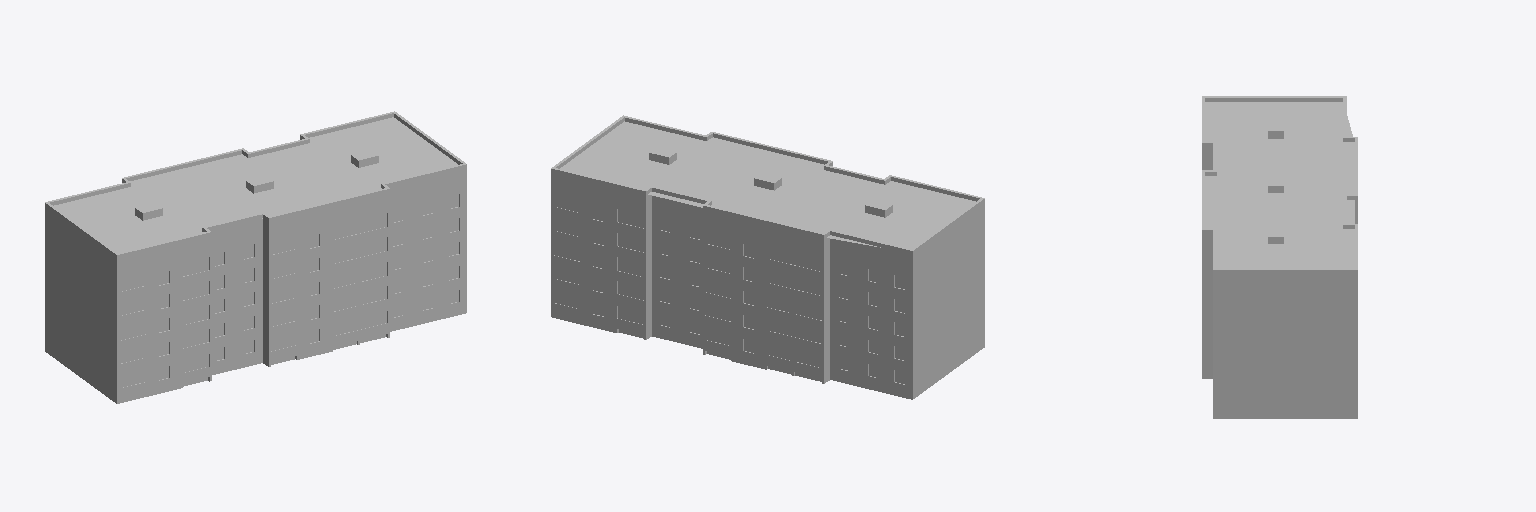
Rendered from Regular.obj.
3 renders of one model, left to right at view 1: azimuth 30°, elevation 25°; view 2: azimuth 150°, elevation 25°; view 3: azimuth 270°, elevation 25°, orthographic.
Visible parts, largest first — view 1: page.012; view 2: page.012; view 3: page.012.
Part boxes in pixels (left/top/right/bottom): page.012: left=45, top=111, right=466, bottom=403; page.012: left=551, top=115, right=984, bottom=399; page.012: left=1202, top=96, right=1357, bottom=418.
Bounding box in the file's own units: 2.47 × 1.01 × 0.9391.